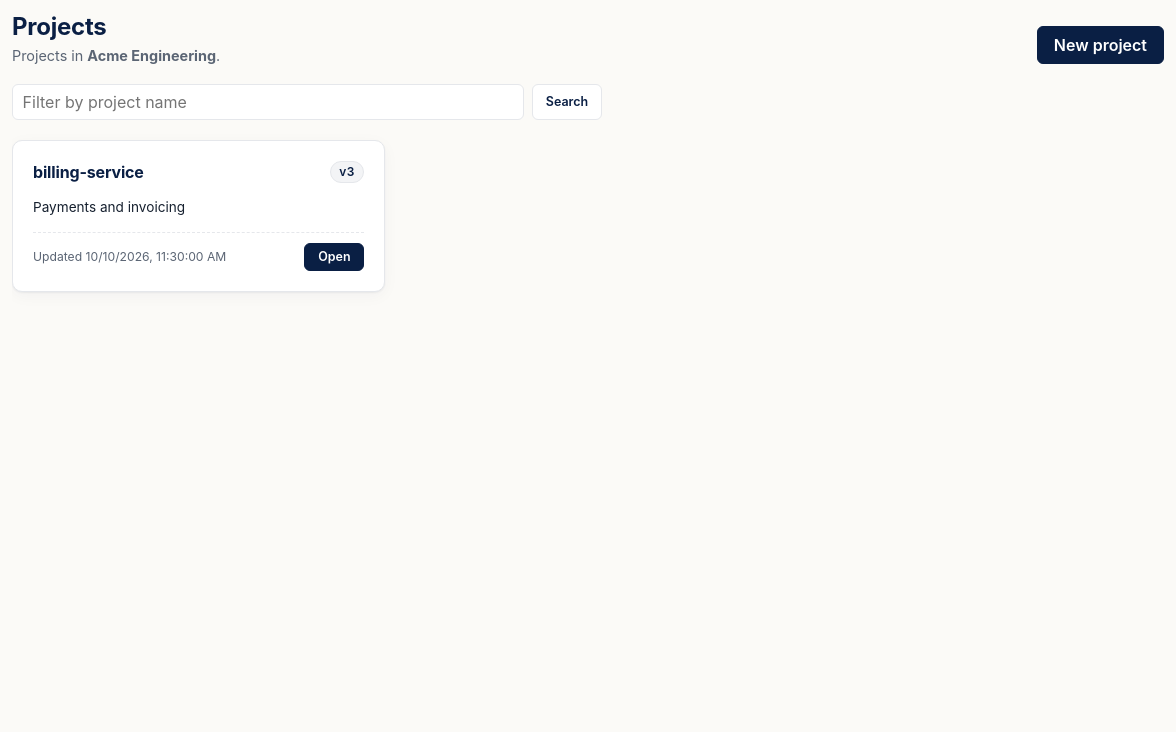
Test: ProjectsView › keeps the form open and shows the error when creation is rejected
Step 1. Click the button with test id "new-project-button" → (1100, 45), box [1037,26,1164,64]
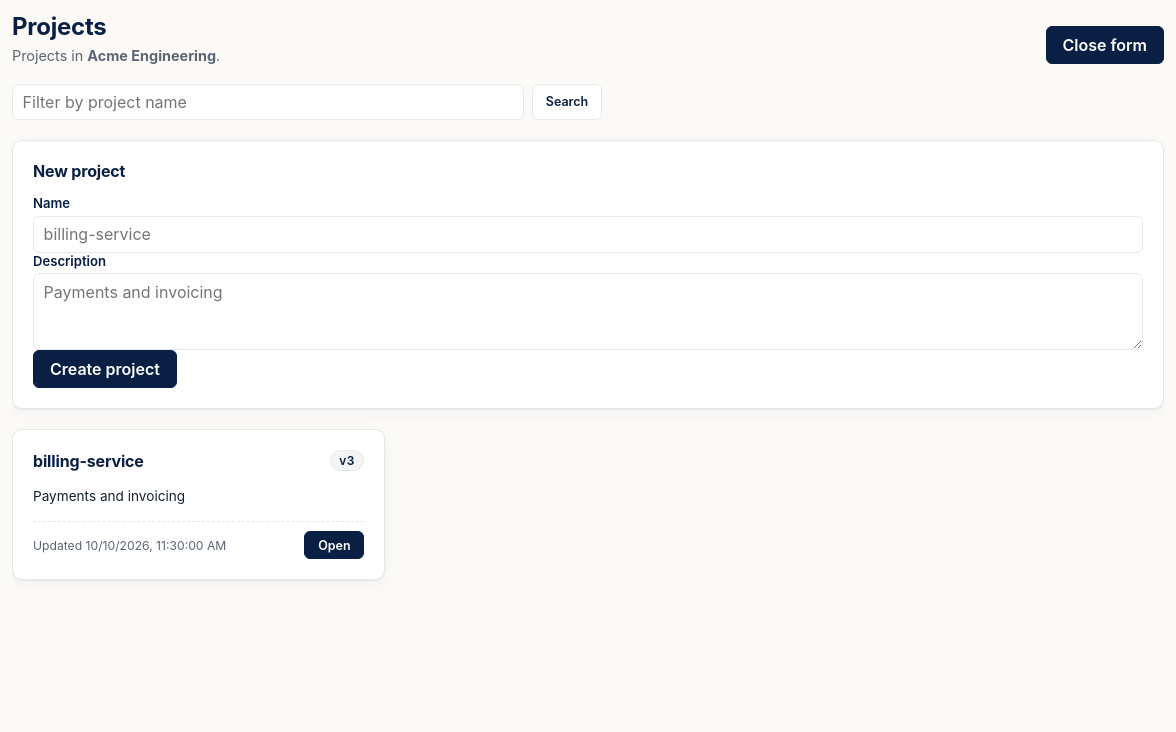
Step 2. Type "indexing" into the field labelled "Name" → (588, 234), box [33,216,1143,253]
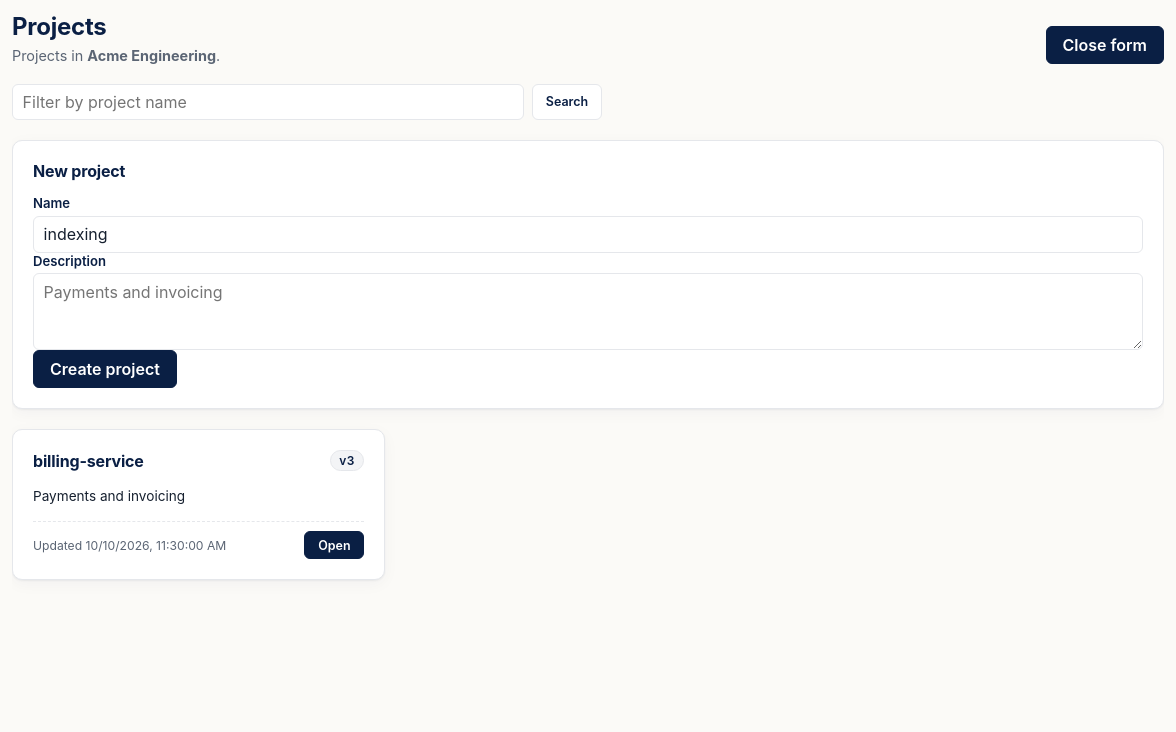
Step 3. Submit the form from the button with test id "create-project-submit", box [33,350,177,388]
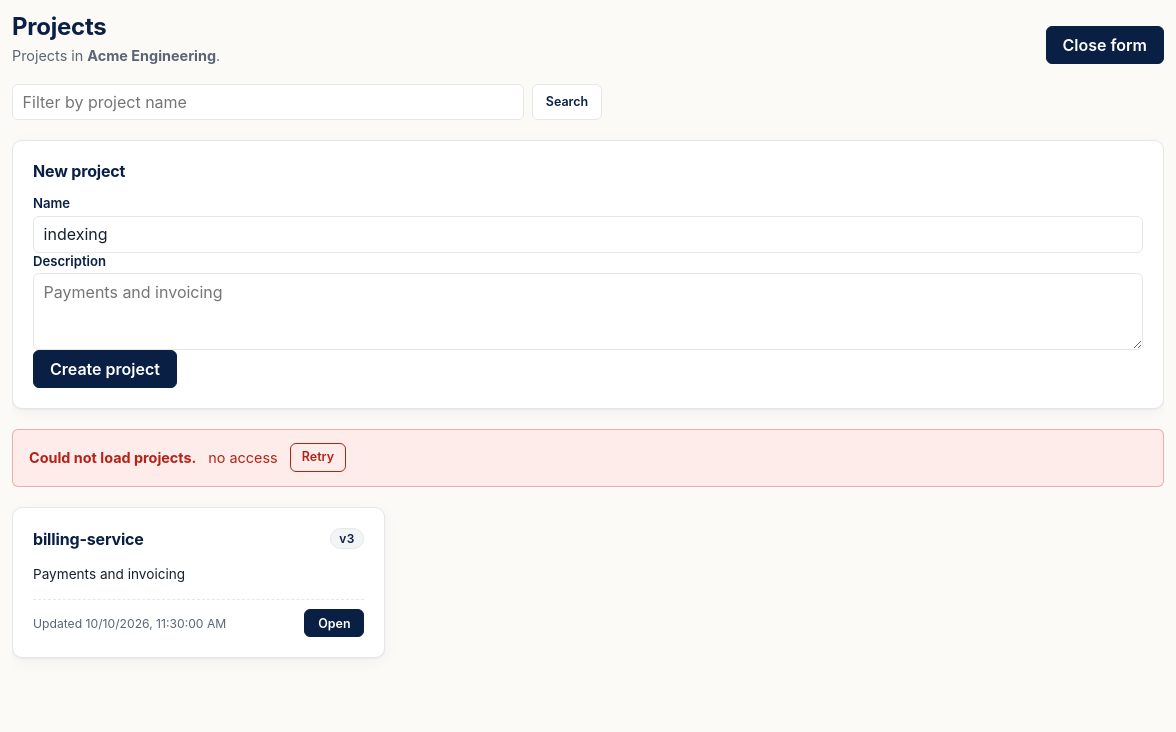
Expected: the element with test id "create-project-form" is shown, [12,140,1164,409]
Expected: the element with test id "projects-error" shows "no access", [208,449,278,466]
